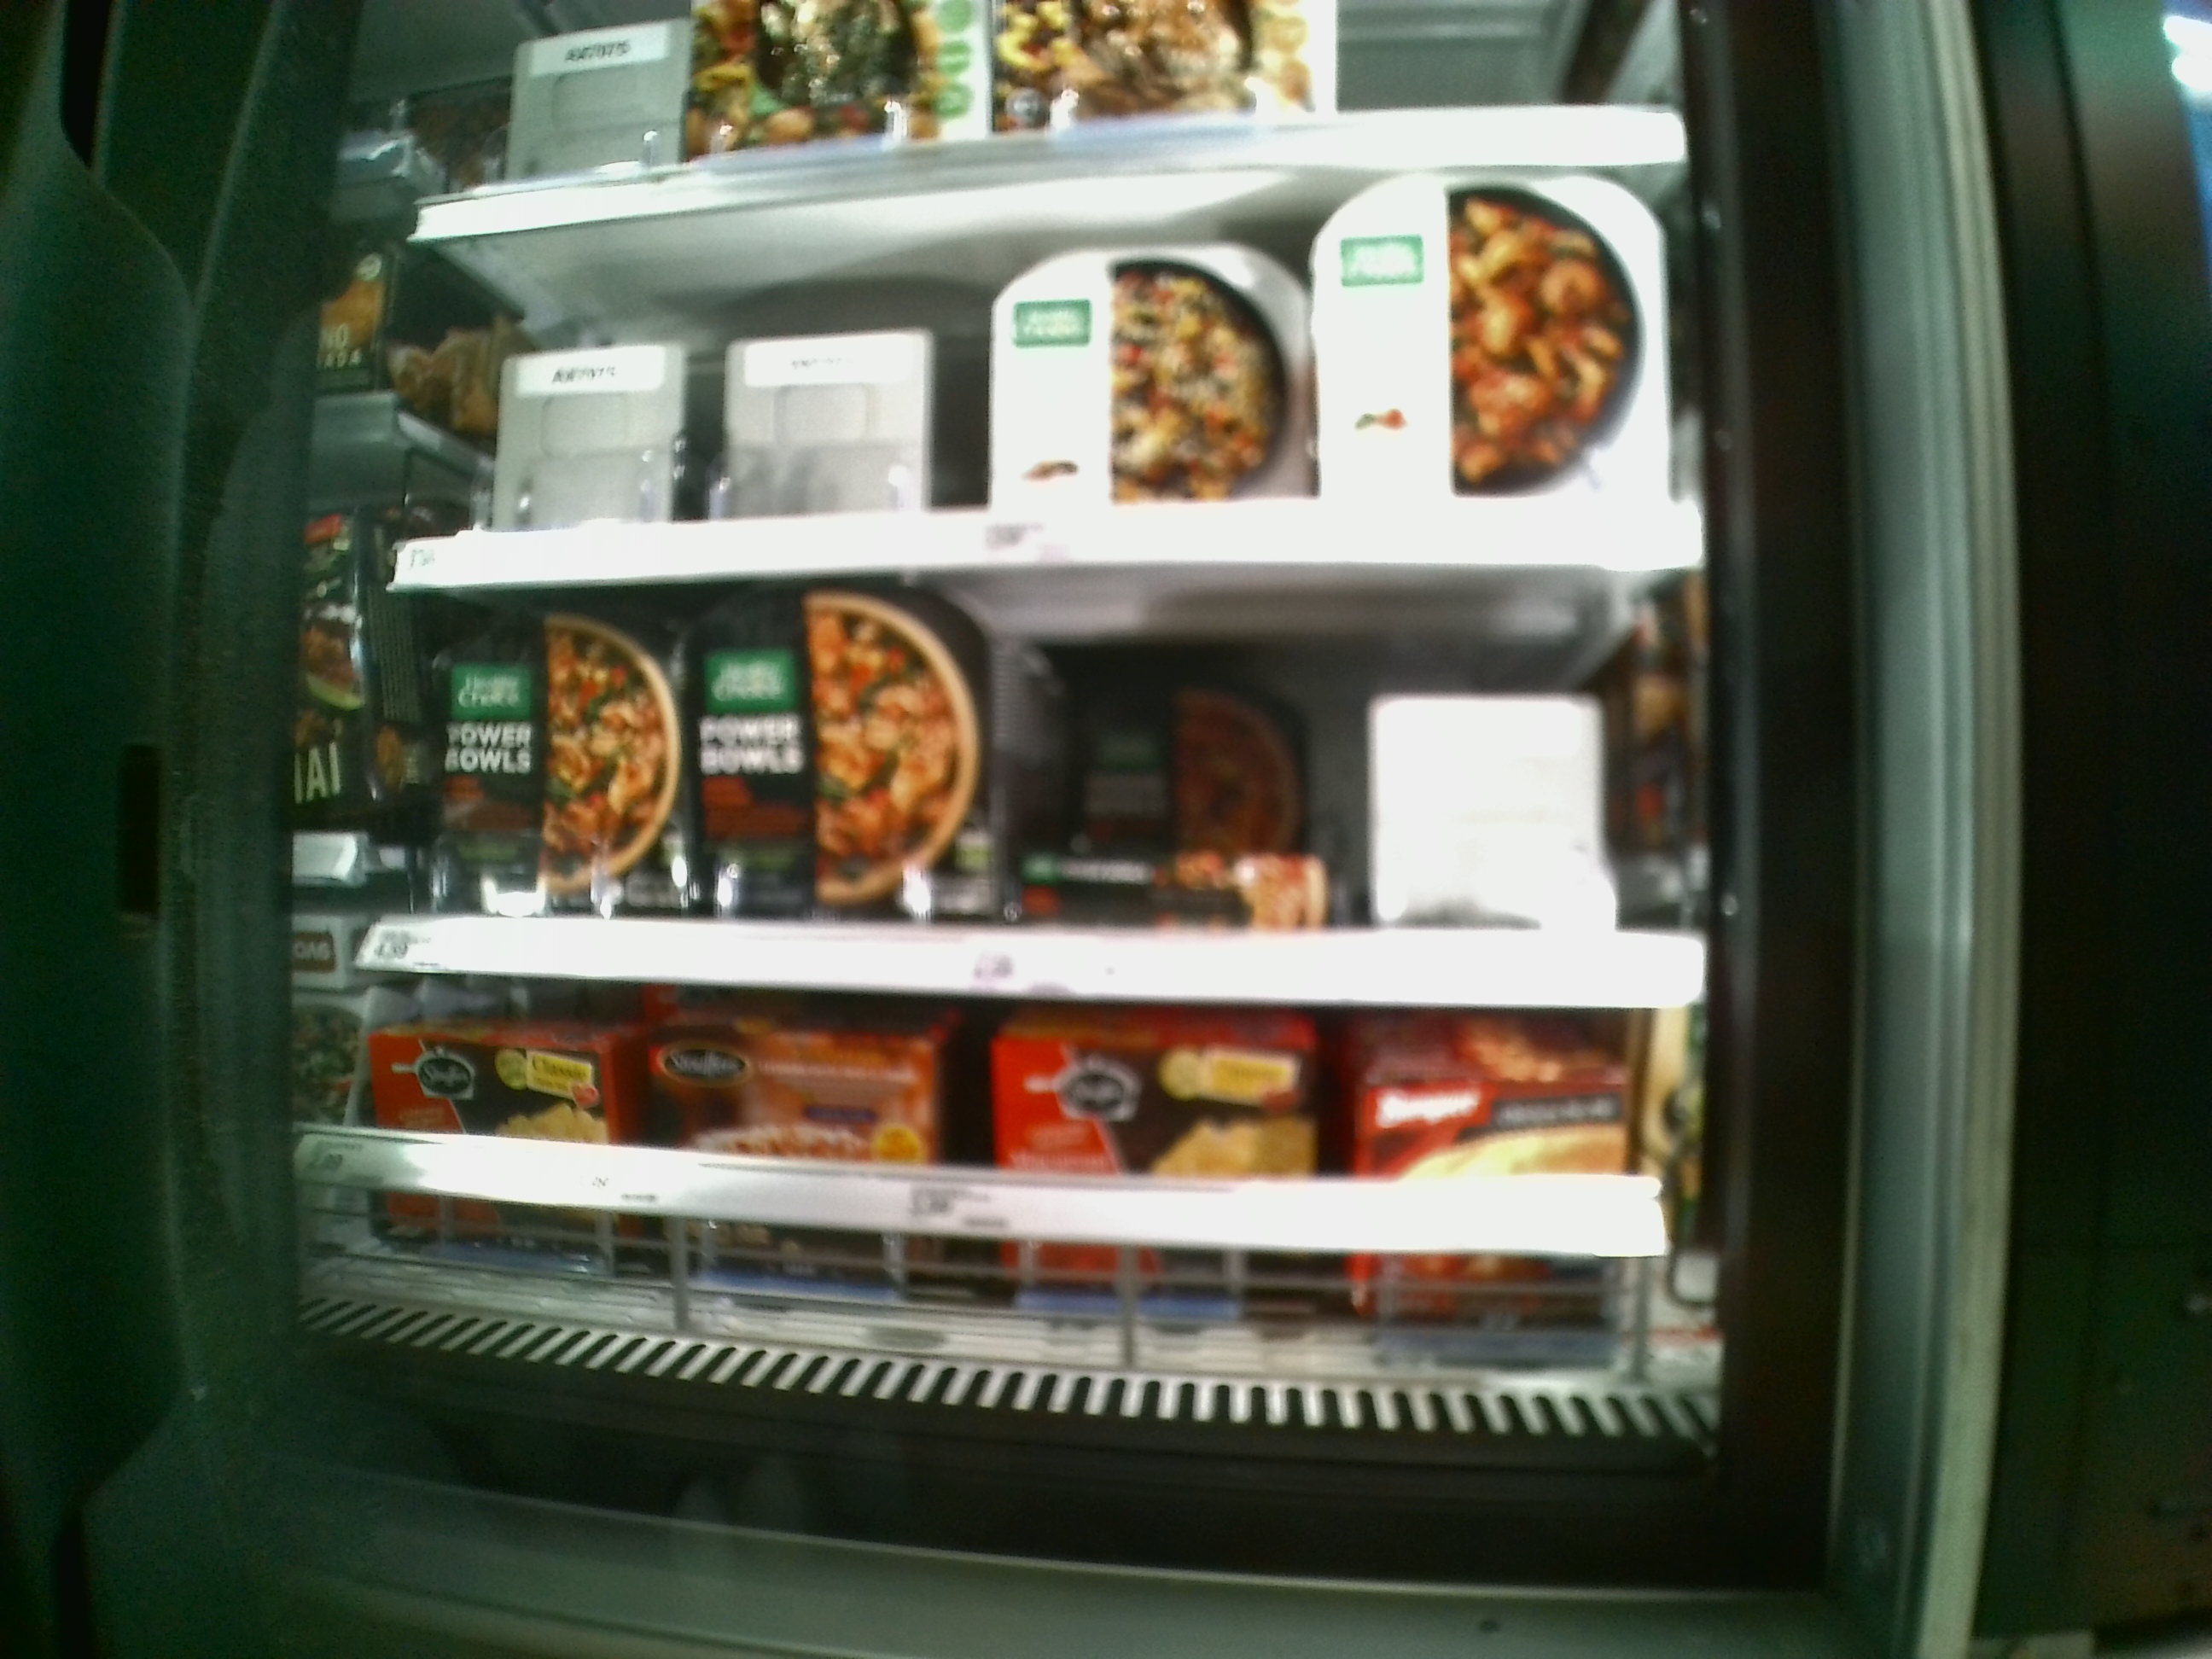shelf: (296, 972, 1735, 1467), (387, 580, 1703, 1004), (392, 157, 1700, 572)
